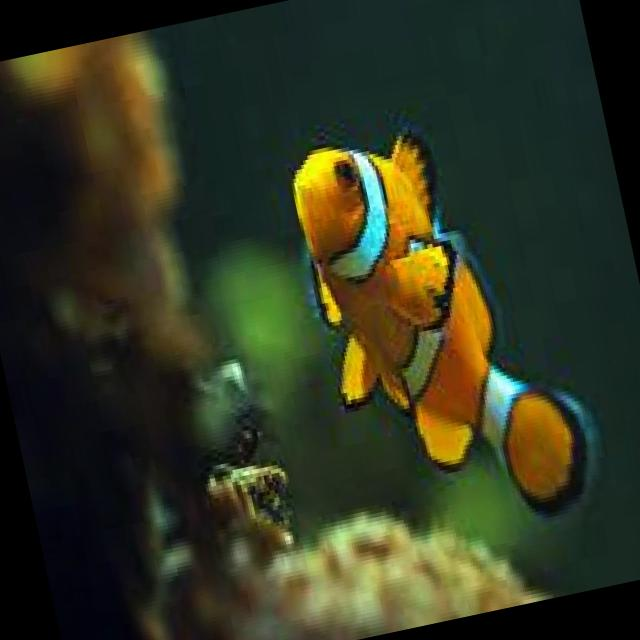ClownFish: (276, 94, 614, 564)
